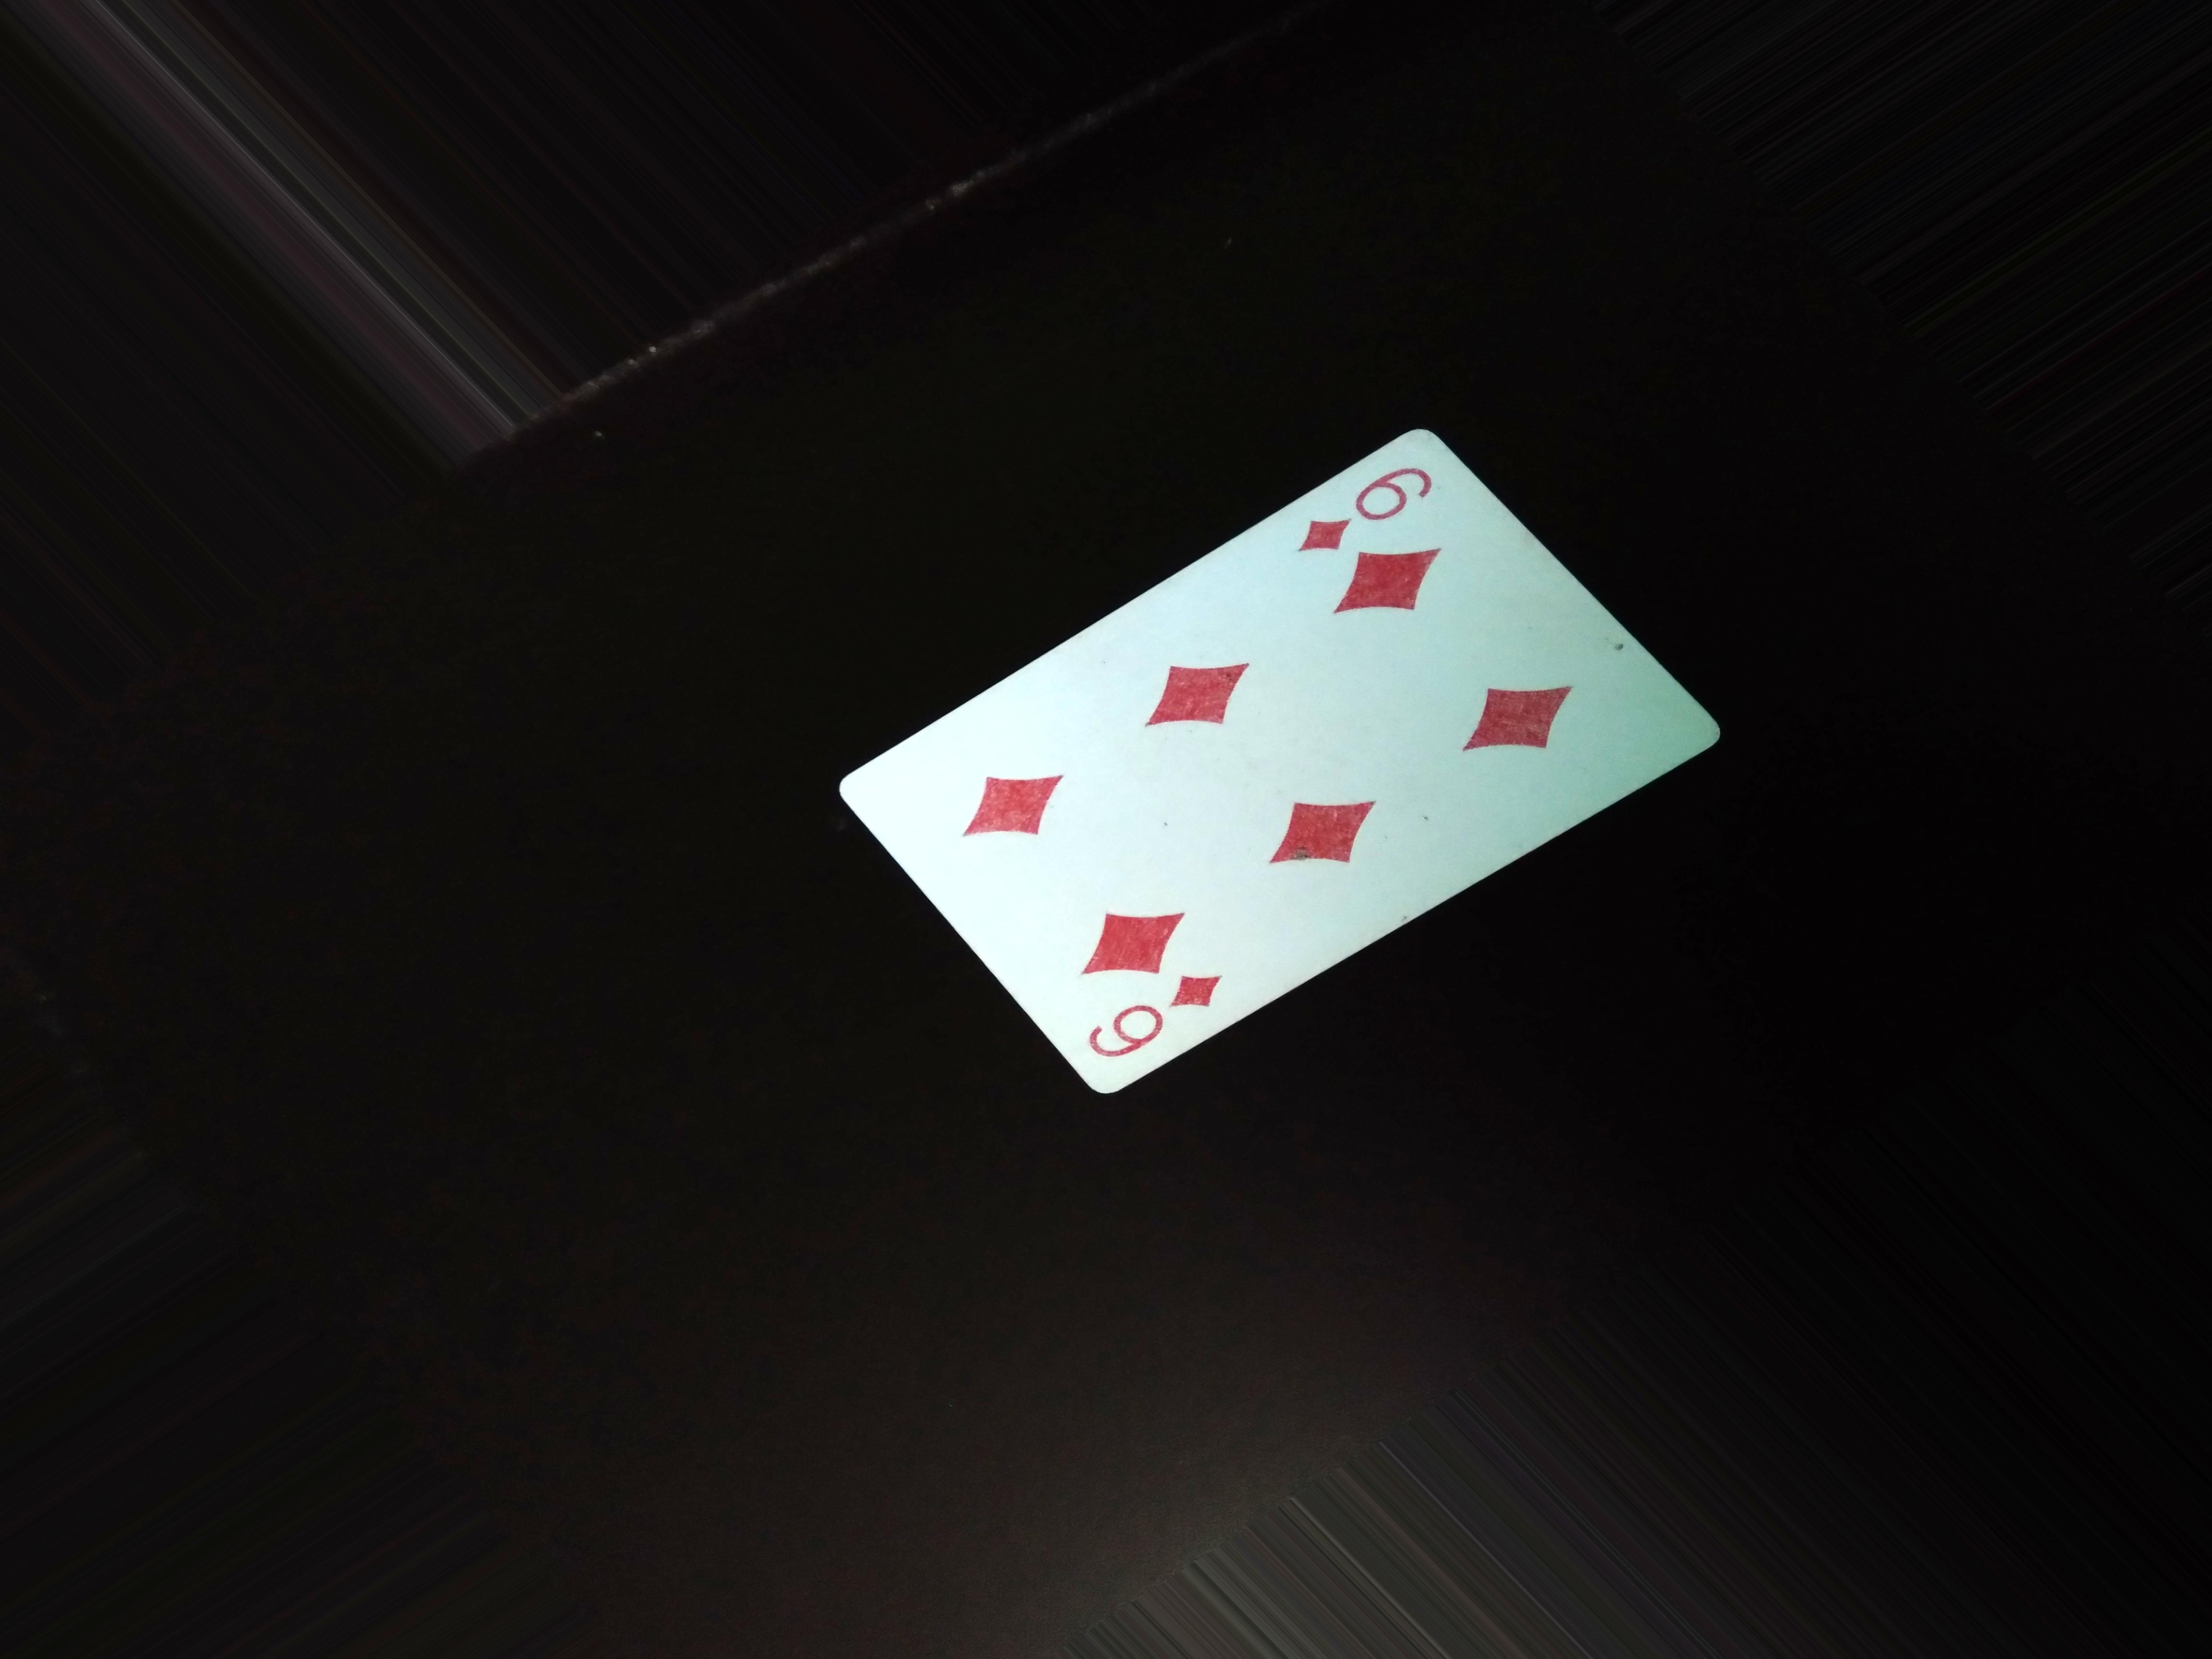6D: (1287, 444, 1439, 566)
